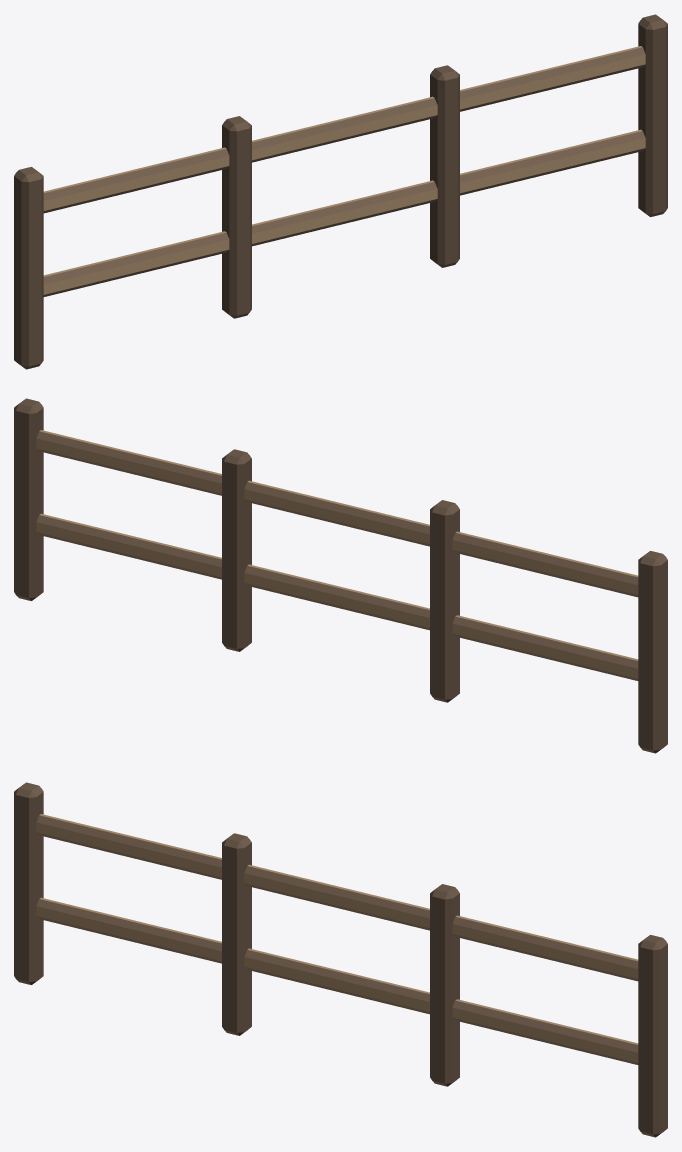
Rendered from SM_Kit_cerca.fbx.
The picture shows the model from 3 angles, top to bottom: view 1: azimuth 30°, elevation 25°; view 2: azimuth 150°, elevation 25°; view 3: azimuth 330°, elevation 25°; orthographic projection.
Visible parts, largest first — view 1: SM_Kit_cerca; view 2: SM_Kit_cerca; view 3: SM_Kit_cerca.
Part boxes in pixels (x1=…): SM_Kit_cerca: x1=14, y1=14, x2=667, y2=369; SM_Kit_cerca: x1=14, y1=398, x2=667, y2=753; SM_Kit_cerca: x1=14, y1=782, x2=667, y2=1137.
Size of what is drawn, in the model's own units: 404 by 116 by 14.
